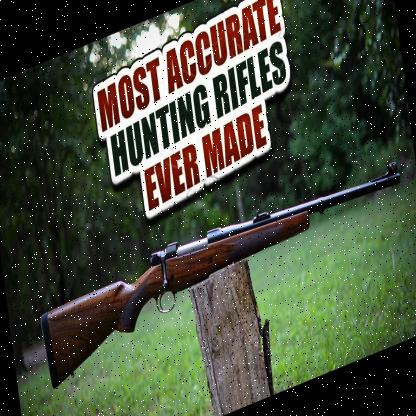rifle: (28, 146, 414, 394)
